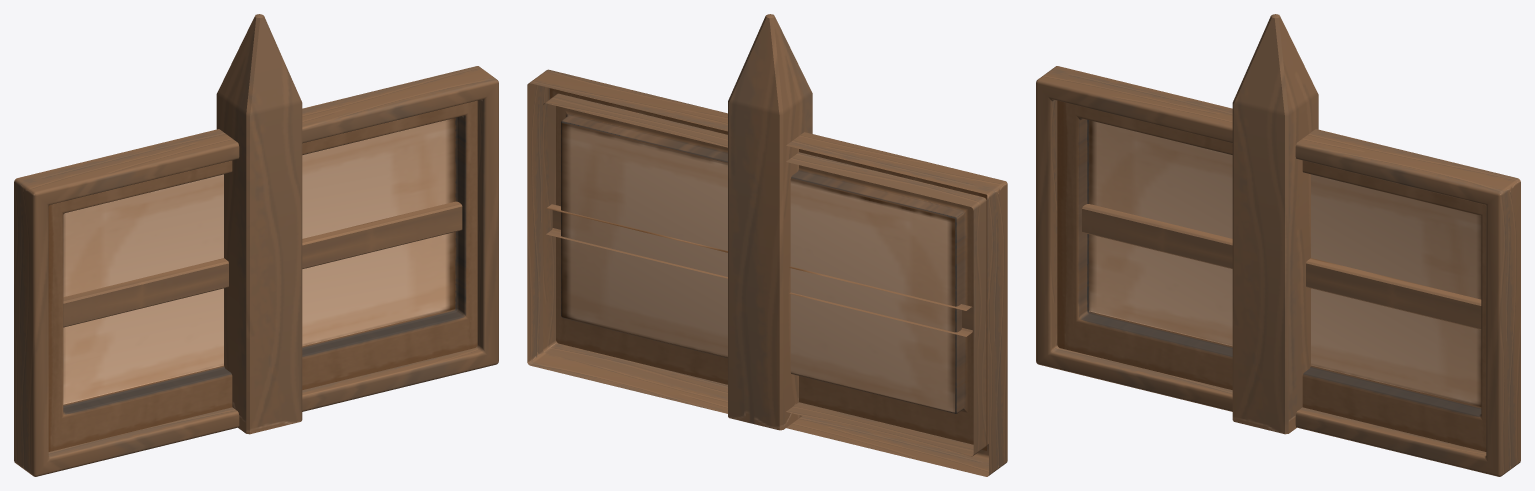
Rendered from Muralha.fbx.
3 renders of one model, left to right at view 1: azimuth 30°, elevation 25°; view 2: azimuth 150°, elevation 25°; view 3: azimuth 330°, elevation 25°, orthographic.
Visible parts, largest first — view 1: Janela_Muralha_rico, Espinhos_Muralha; view 2: Janela_Muralha_rico, Espinhos_Muralha; view 3: Janela_Muralha_rico, Espinhos_Muralha.
Boxes of the visible parts, left/top/right/bottom form: Janela_Muralha_rico: left=14, top=66, right=498, bottom=476; Espinhos_Muralha: left=216, top=14, right=302, bottom=434; Janela_Muralha_rico: left=527, top=69, right=1007, bottom=476; Espinhos_Muralha: left=728, top=14, right=812, bottom=430; Janela_Muralha_rico: left=1036, top=66, right=1520, bottom=476; Espinhos_Muralha: left=1232, top=14, right=1318, bottom=434.
Size of the model in its own units: 199 by 164 by 23.98.
